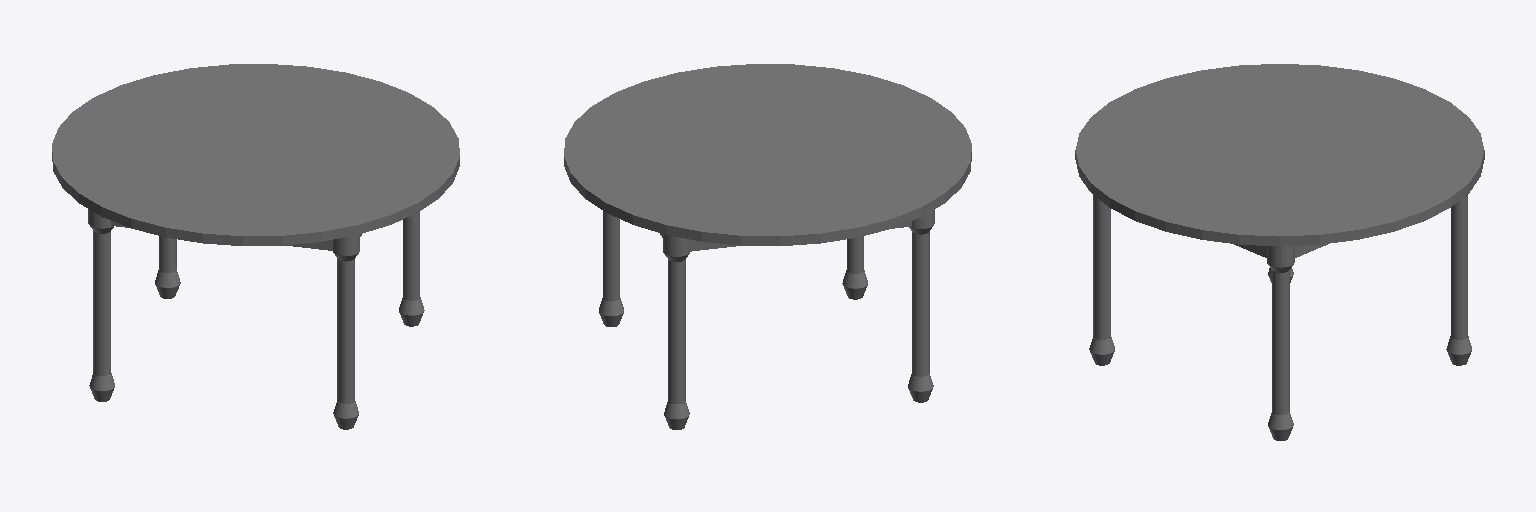
3 renders of one model, left to right at view 1: azimuth 30°, elevation 25°; view 2: azimuth 150°, elevation 25°; view 3: azimuth 270°, elevation 25°, orthographic.
Visible parts, largest first — view 1: Cylinder_Cylinder.001, Leg_Cylinder.003; view 2: Cylinder_Cylinder.001, Leg_Cylinder.003; view 3: Cylinder_Cylinder.001, Leg_Cylinder.003.
Boxes of the visible parts, x1,y1,x2,y2 form: Cylinder_Cylinder.001: [52, 64, 459, 245]; Leg_Cylinder.003: [88, 209, 424, 429]; Cylinder_Cylinder.001: [564, 64, 971, 245]; Leg_Cylinder.003: [599, 210, 934, 429]; Cylinder_Cylinder.001: [1075, 64, 1484, 245]; Leg_Cylinder.003: [1089, 188, 1472, 440].
Size of the model in its own units: 2.56 by 1.46 by 2.56.